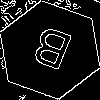B: (25, 25, 75, 80)
